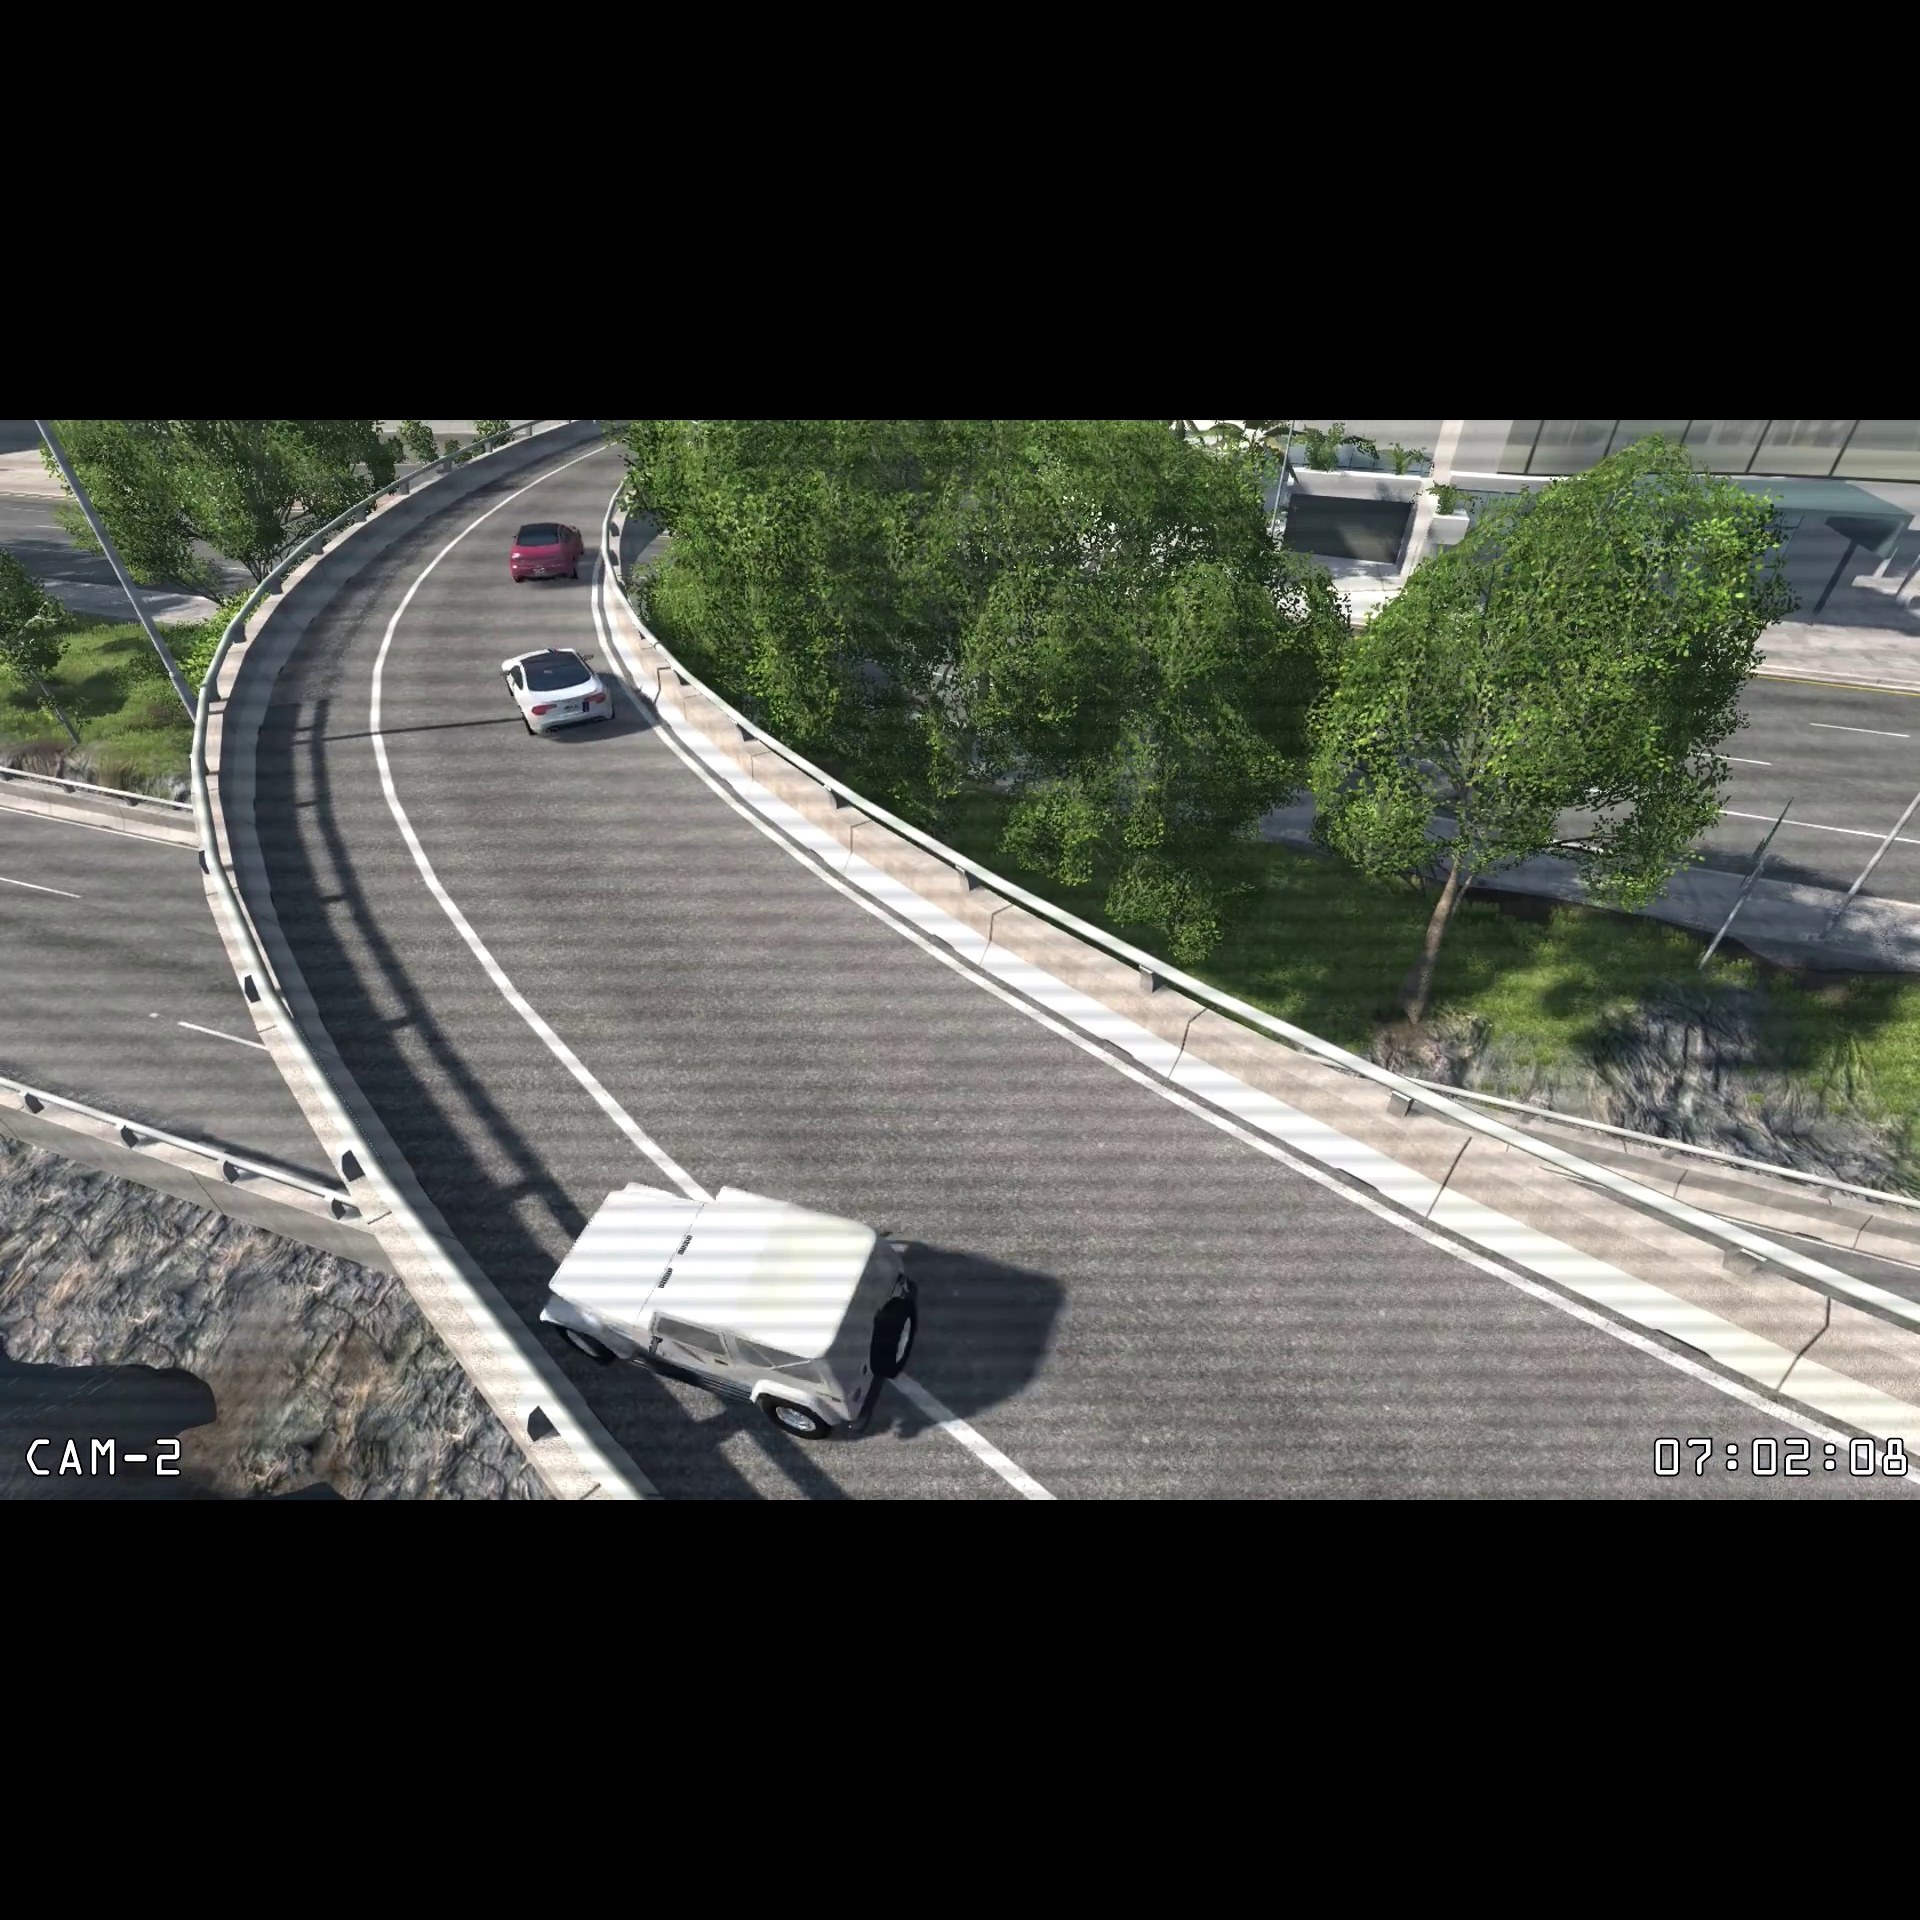vehicle: (519, 1164, 928, 1442), (492, 642, 624, 742), (506, 513, 589, 593)
